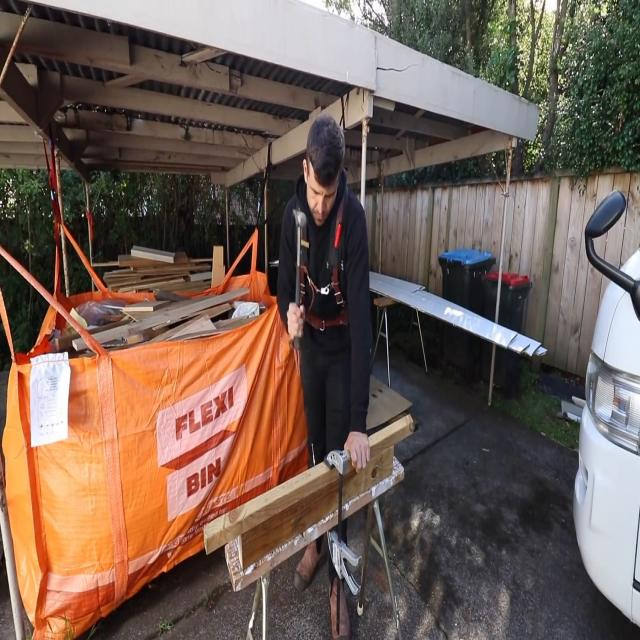hammer: (287, 202, 310, 355)
